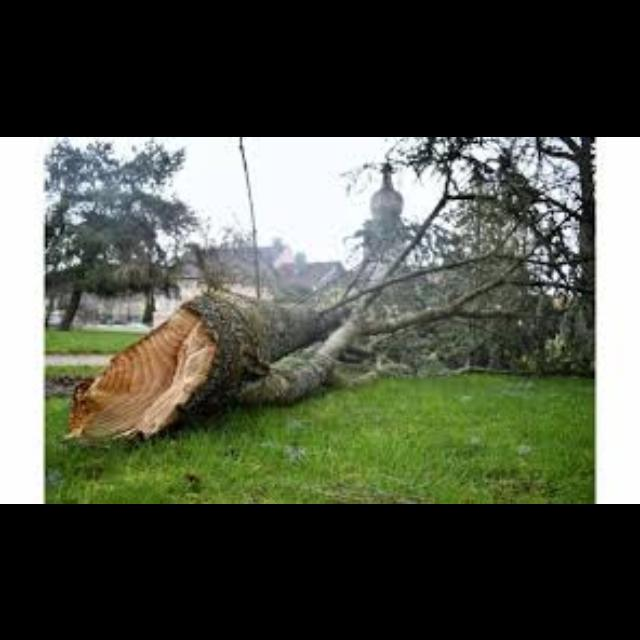Fallen Tree: (75, 277, 382, 448)
